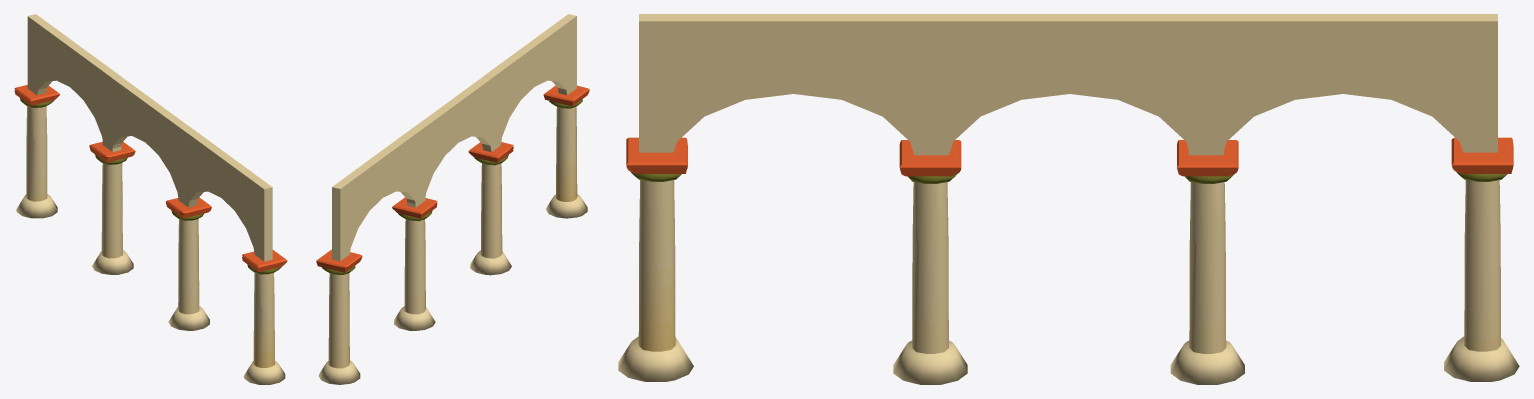
The model's file is Arc_Column.fbx.
3 views of the same model, side by side, from view 1: azimuth 30°, elevation 25°; view 2: azimuth 150°, elevation 25°; view 3: azimuth 270°, elevation 25° (orthographic). The views are drawn at different scales.
Visible parts, largest first — view 1: Column.006; view 2: Column.006; view 3: Column.006.
Boxes of the visible parts, x1,y1,x2,y2 form: Column.006: (14, 14, 287, 384); Column.006: (316, 14, 589, 384); Column.006: (618, 14, 1519, 384).
Bounding box in the file's own units: 61.83 × 316 × 736.
Materials: 1 (1 with a texture image).
